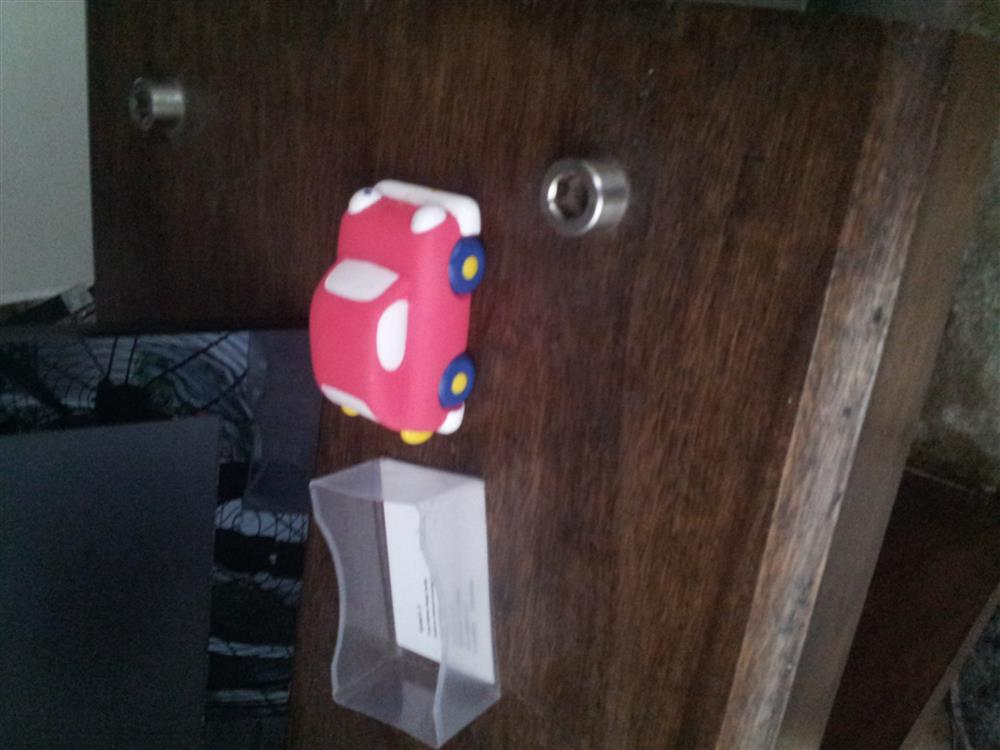red_car: (309, 170, 493, 450)
